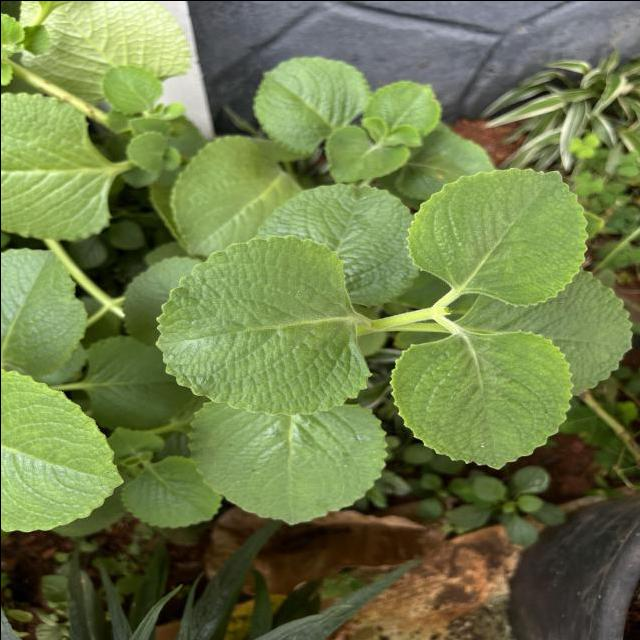Plectranthus barbatus: (152, 233, 375, 416), (386, 328, 574, 471), (402, 166, 590, 308), (185, 400, 388, 526), (251, 182, 420, 308), (250, 56, 369, 154), (120, 453, 222, 528), (323, 124, 409, 182), (364, 78, 442, 136)
